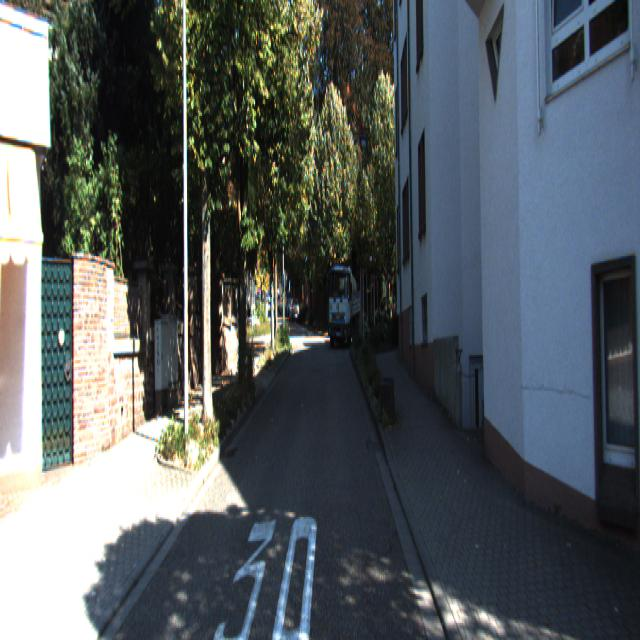Car: (328, 264, 361, 350), (290, 297, 300, 324)
